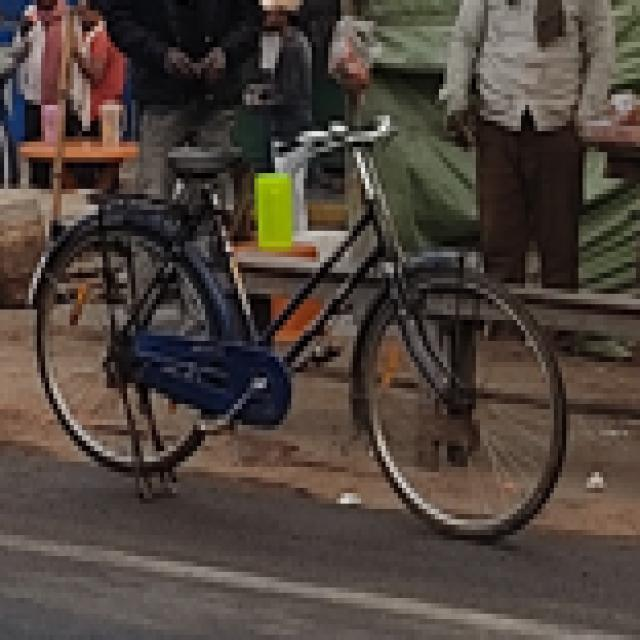bicycle: (29, 116, 578, 536)
